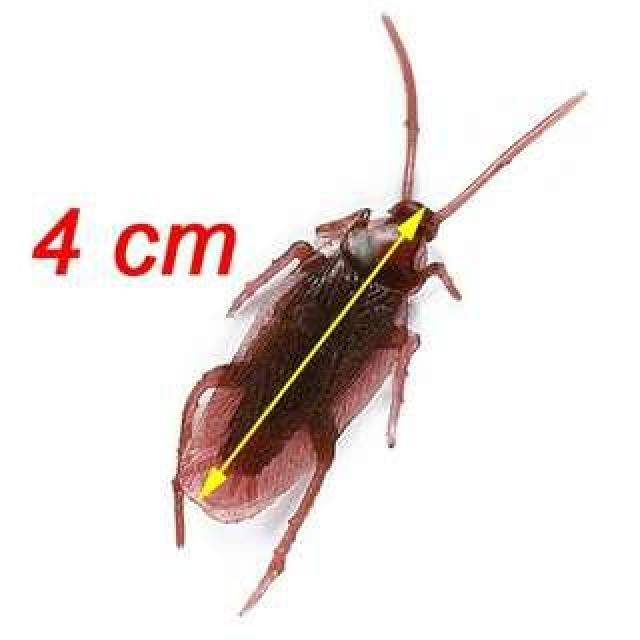Cockroach: (152, 188, 480, 560)
